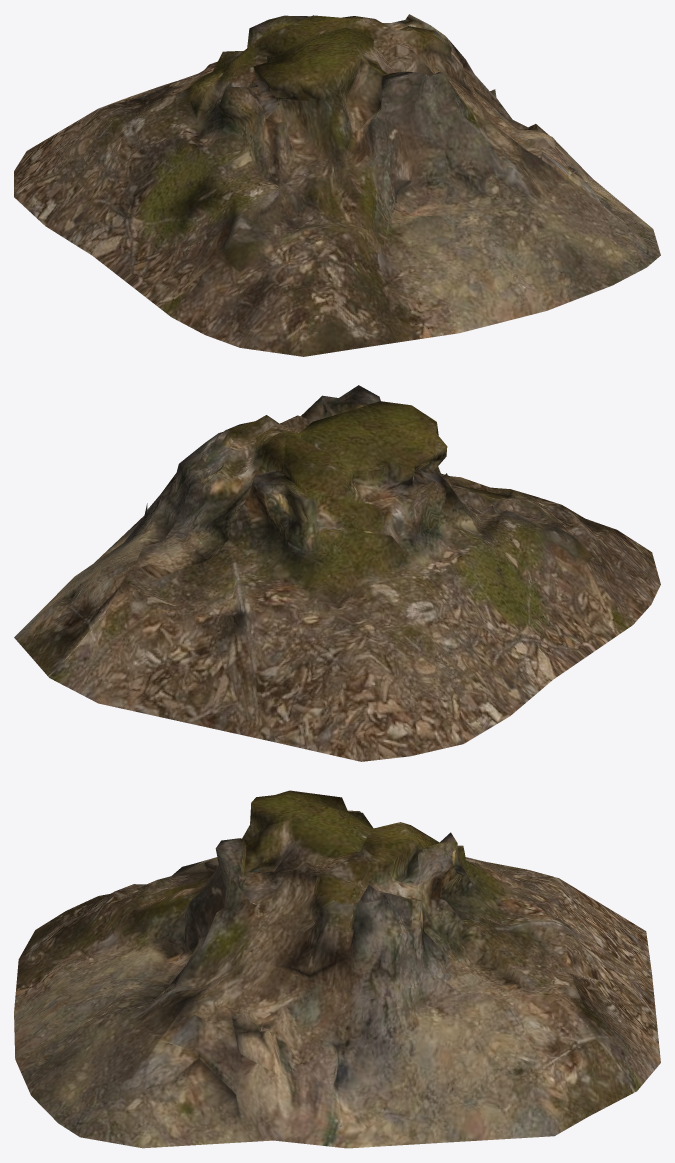
Rendered from tree_stump_01.glb.
3 views of the same model, one above another, from view 1: azimuth 30°, elevation 25°; view 2: azimuth 150°, elevation 25°; view 3: azimuth 270°, elevation 25° (orthographic). The views are drawn at different scales.
Visible parts, largest first — view 1: tree_stump_01; view 2: tree_stump_01; view 3: tree_stump_01.
Part boxes in pixels (box(x1,y1,x2,y2)): tree_stump_01: box(14, 14, 660, 356); tree_stump_01: box(14, 385, 660, 761); tree_stump_01: box(14, 790, 660, 1148).
Bounding box in the file's own units: 1.43 × 0.5621 × 1.59.
1 material, 1 textured.
